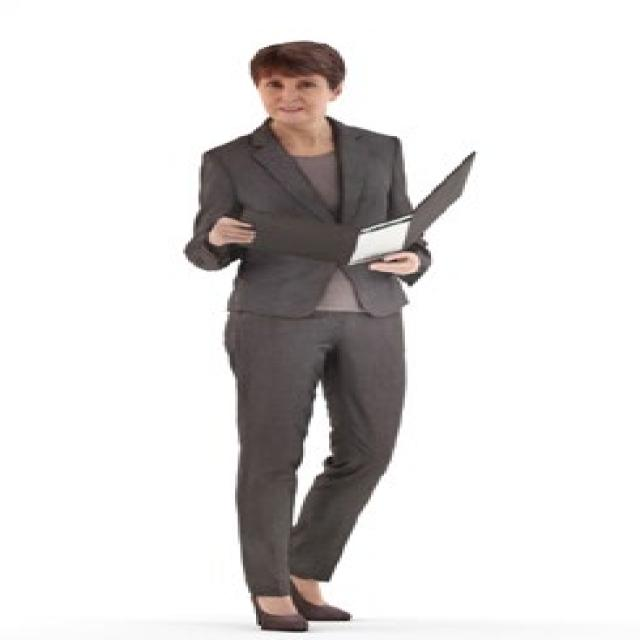standing: (182, 39, 428, 634)
